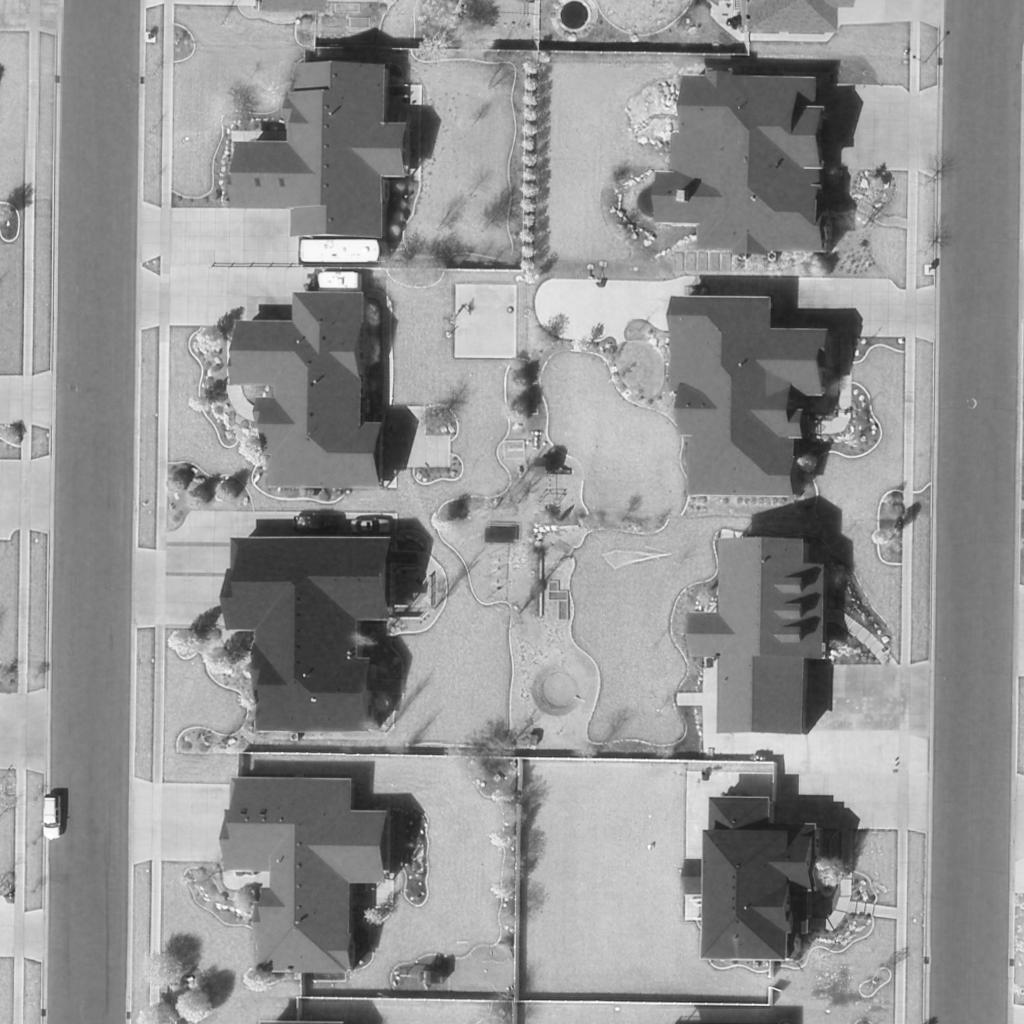vehicle: (299, 236, 381, 264), (40, 793, 66, 843), (293, 511, 343, 537), (314, 272, 364, 290), (348, 518, 390, 536)
